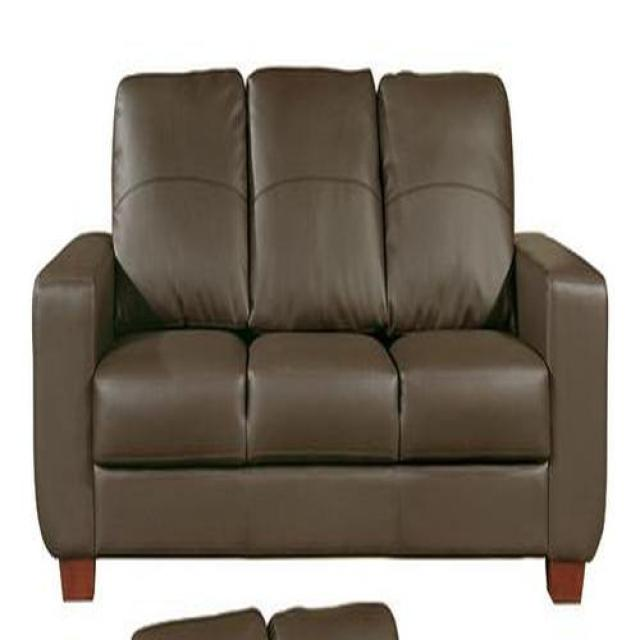sofa: (32, 69, 609, 608)
